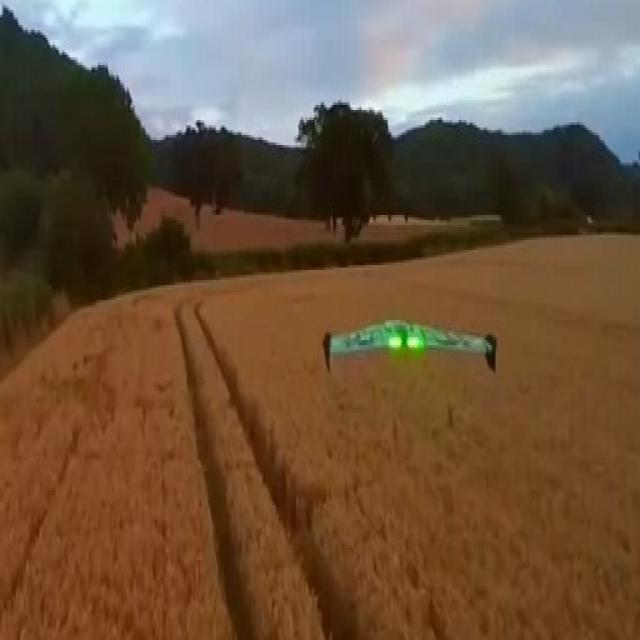UAV: (286, 314, 518, 389)
